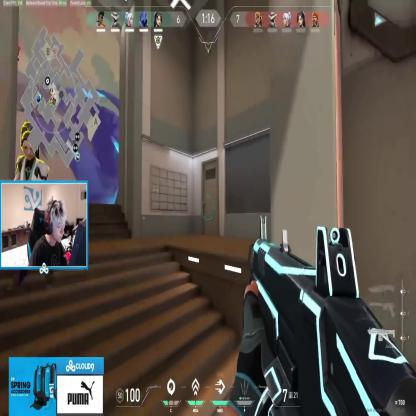enemy: (8, 122, 56, 288)
enemy_head: (20, 124, 39, 161)
